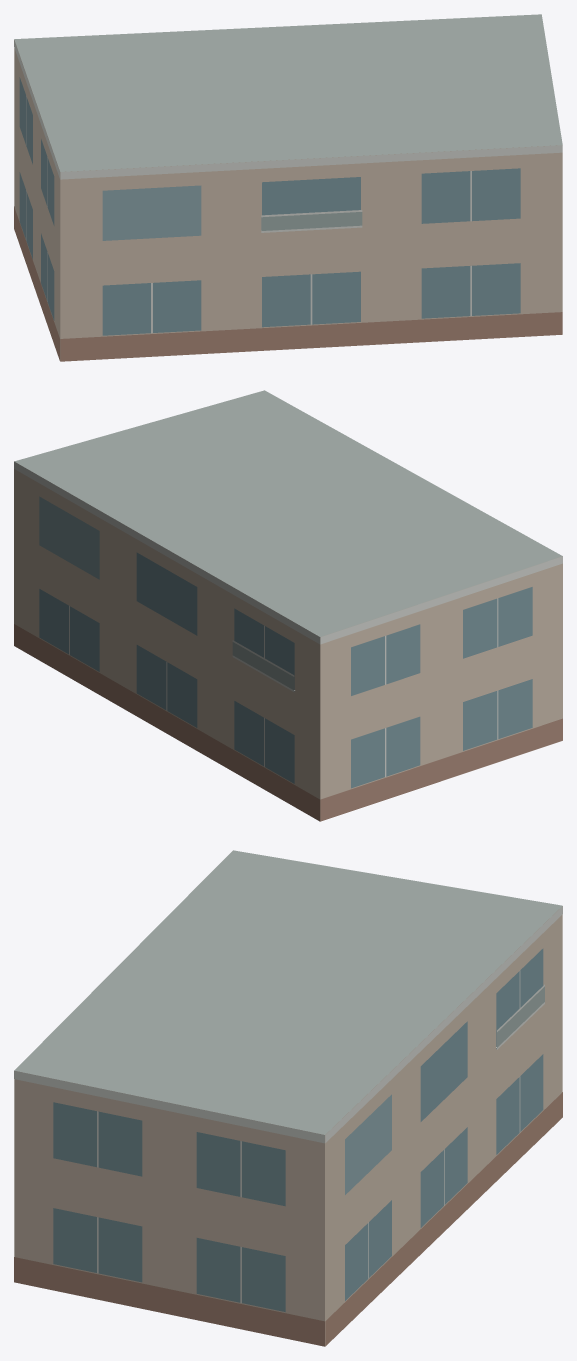
Rendered from survey-upis-32527738.glb.
3 renders of one model, top to bottom at view 1: azimuth 30°, elevation 25°; view 2: azimuth 150°, elevation 25°; view 3: azimuth 270°, elevation 25°, orthographic. The views are drawn at different scales.
Parts seen in each view (by area): view 1: survey-upis-32527738.tmp; view 2: survey-upis-32527738.tmp; view 3: survey-upis-32527738.tmp.
Boxes of the visible parts, left/top/right/bottom form: survey-upis-32527738.tmp: left=14, top=14, right=562, bottom=361; survey-upis-32527738.tmp: left=14, top=390, right=562, bottom=821; survey-upis-32527738.tmp: left=14, top=850, right=562, bottom=1346.
Size of the model in its own units: 17.61 by 6.1 by 14.34.
